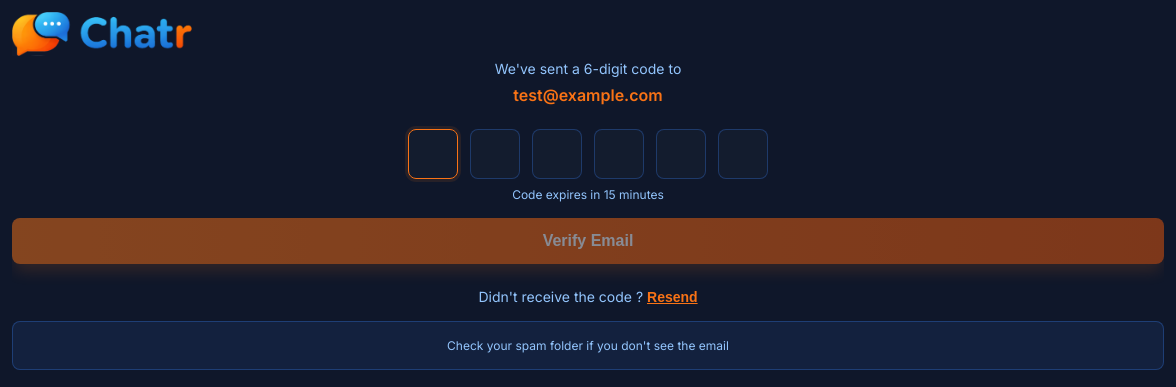
it: EmailVerification Component › shows loading state during verification
Type "1" into the 1st field.
click(433, 154); type("1")  # box [408, 129, 458, 179]
Type "2" into the 2nd field.
click(495, 154); type("2")  # box [470, 129, 520, 179]
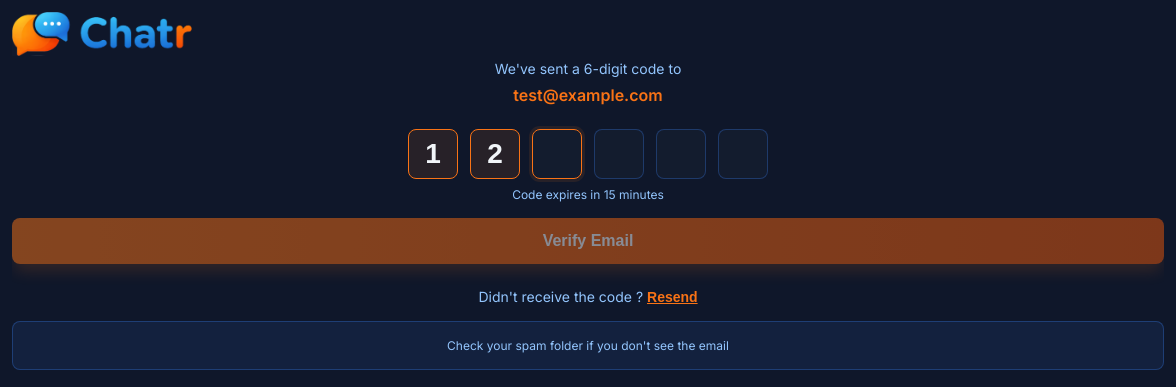
Type "3" into the 3rd field.
click(557, 154); type("3")  # box [532, 129, 582, 179]
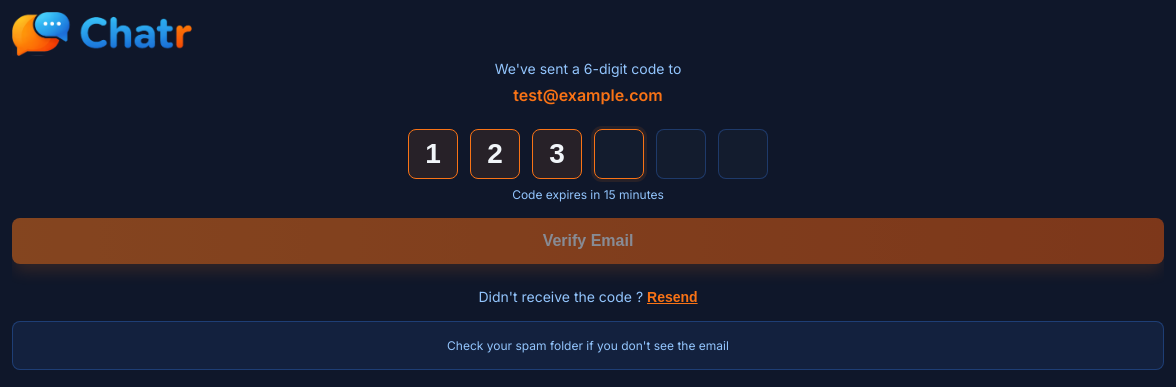
Type "4" into the 4th field.
click(619, 154); type("4")  # box [594, 129, 644, 179]
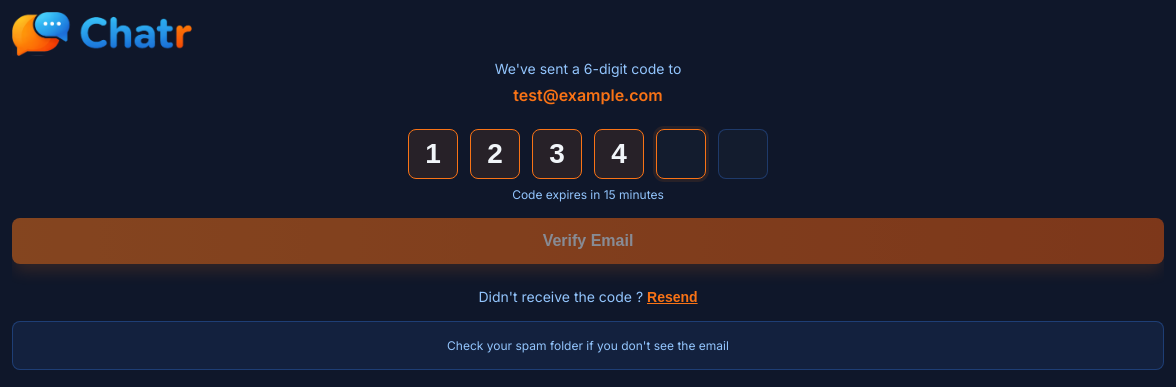
Type "5" into the 5th field.
click(681, 154); type("5")  # box [656, 129, 706, 179]
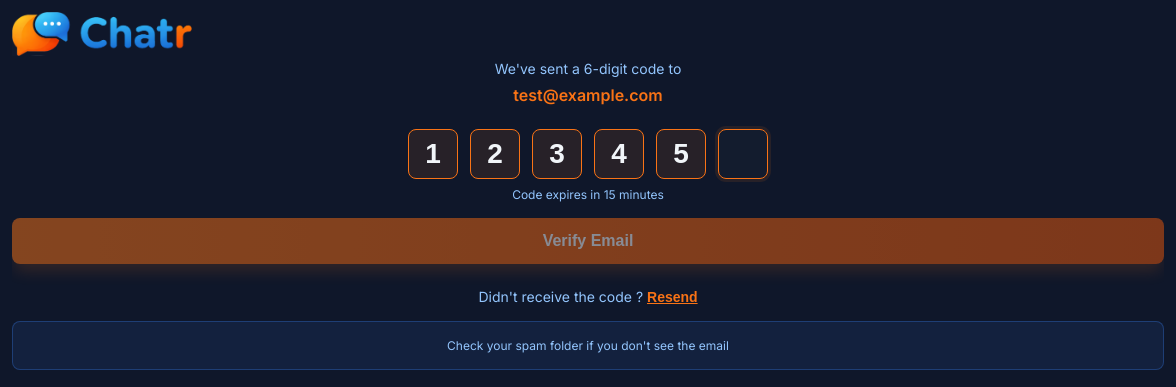
Type "6" into the 6th field.
click(743, 154); type("6")  # box [718, 129, 768, 179]
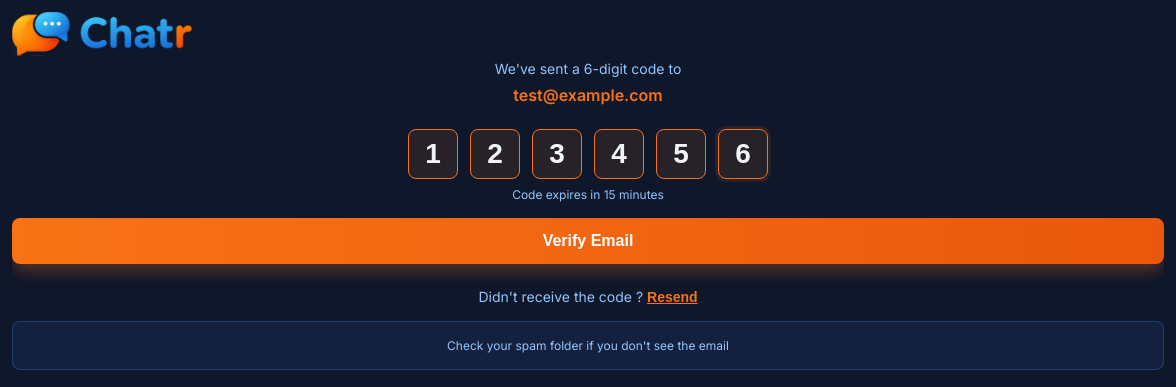
Click the button "Verify Email".
click(588, 241)  # box [12, 218, 1164, 264]
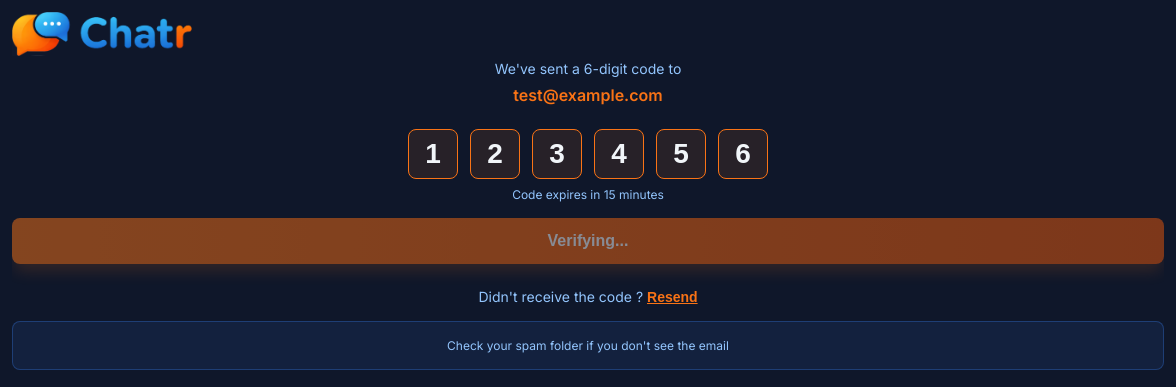
Now the button "Verifying..." is shown, box [12, 218, 1164, 264]
